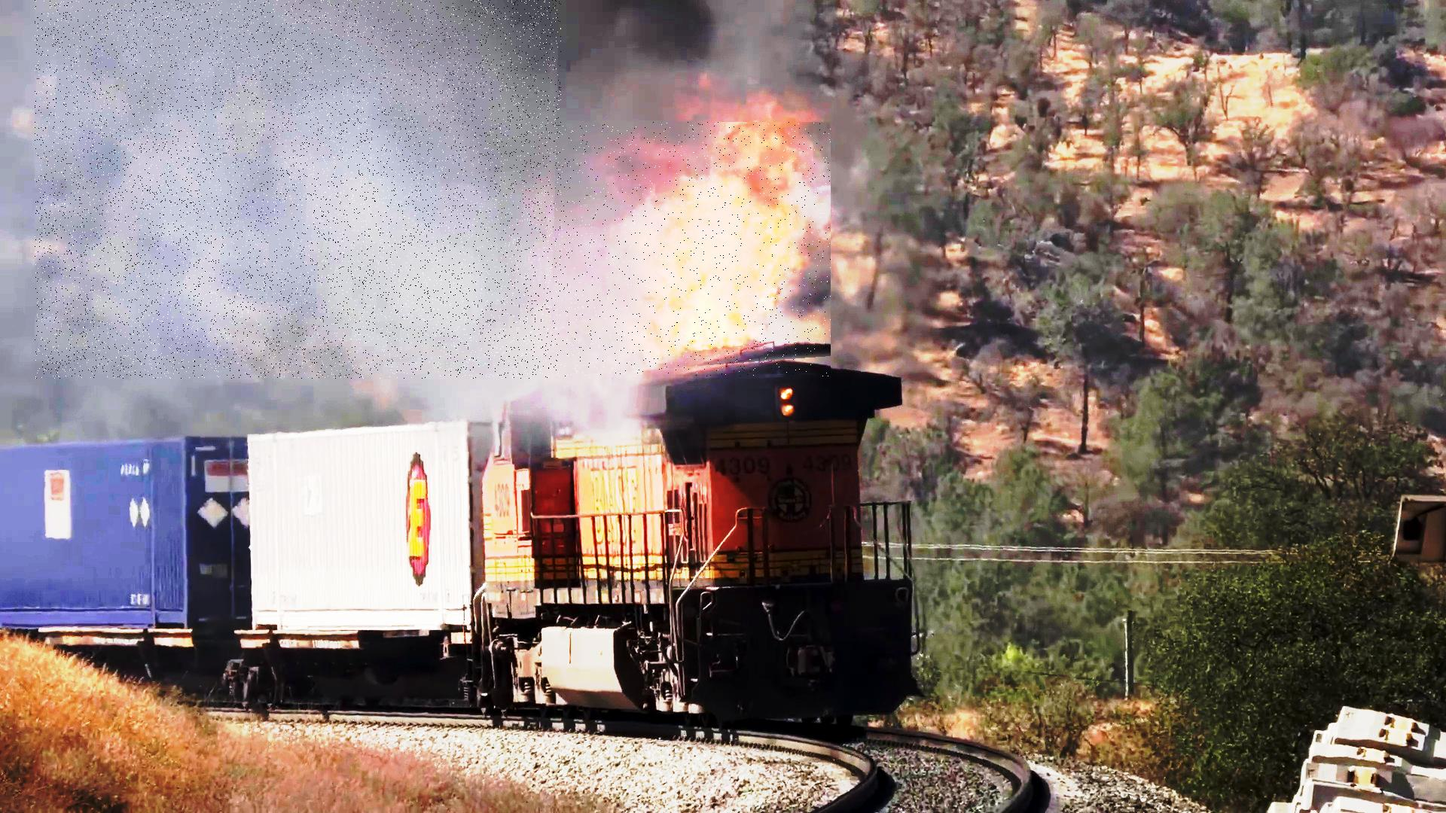fire: (35, 0, 562, 379), (561, 123, 831, 377)
